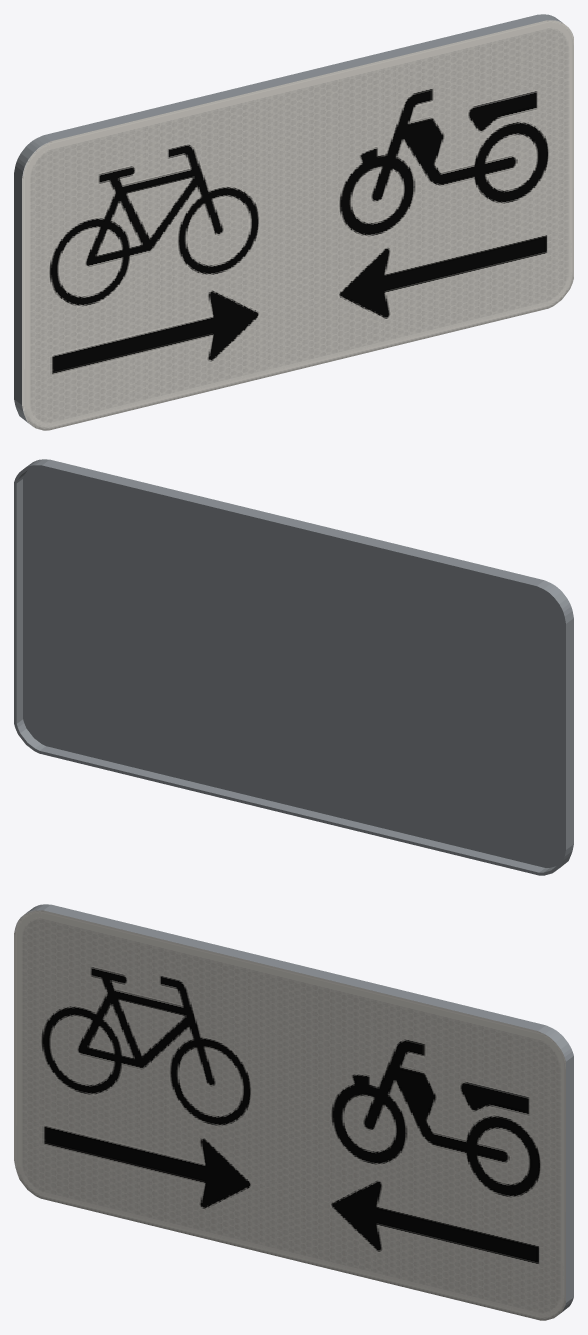
3 views of the same model, one above another, from view 1: azimuth 30°, elevation 25°; view 2: azimuth 150°, elevation 25°; view 3: azimuth 330°, elevation 25° (orthographic).
Parts seen in each view (by area): view 1: cat_050323344d8380af; view 2: cat_050323344d8380af; view 3: cat_050323344d8380af.
Boxes of the visible parts, <box> form: cat_050323344d8380af: <box>14,14,573,430</box>; cat_050323344d8380af: <box>14,459,573,875</box>; cat_050323344d8380af: <box>14,904,573,1320</box>.
Bounding box in the file's own units: 0.6 × 0.015 × 0.3.
2 materials, 1 textured.
